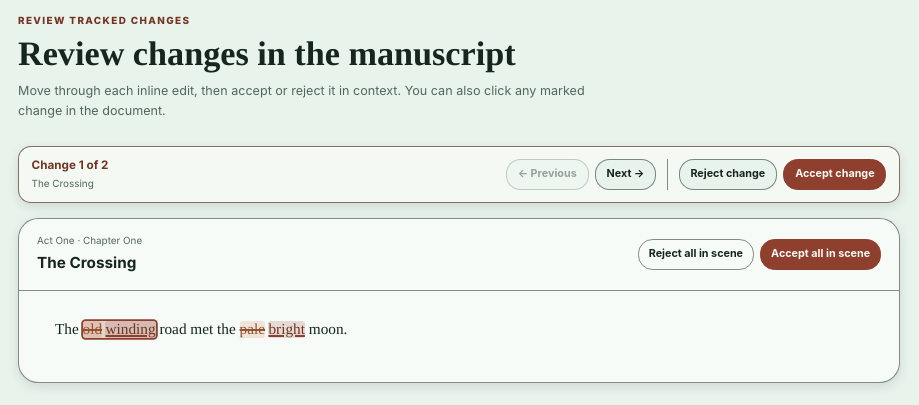
Test: ManuscriptReview › moves through pending edits with previous and next controls
The width and height of the screenshot is (919, 405).
Expected: the text "Change 1 of 2" is shown, [32,157,108,175]
Expected: the button with class "is-active" shows "old", [83,321,156,338]
What coordinates should you click on to do the following:
click the button with aria-label "Next change"
I would click on:
 (625, 174)
Its box is [595,159,656,190].
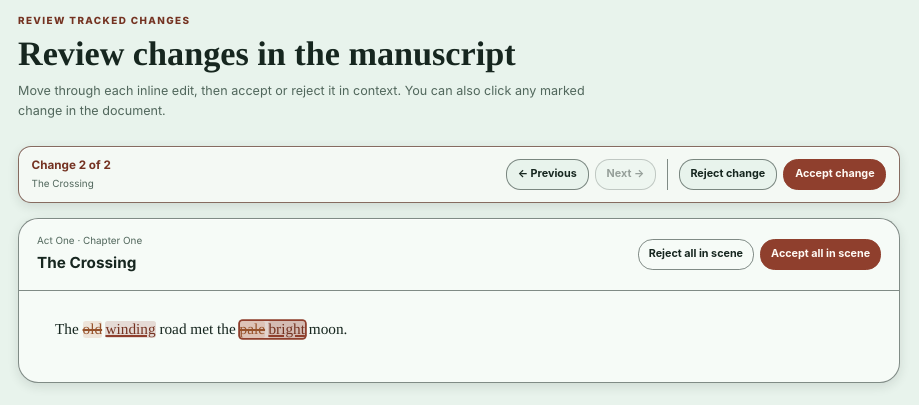
Expected: the button with class "is-active" shows "pale", [240,321,305,338]
Now the text "Change 2 of 2" is shown, box [32,157,111,175]
Now the button with aria-label "Next change" is disabled, box [595,159,656,190]
